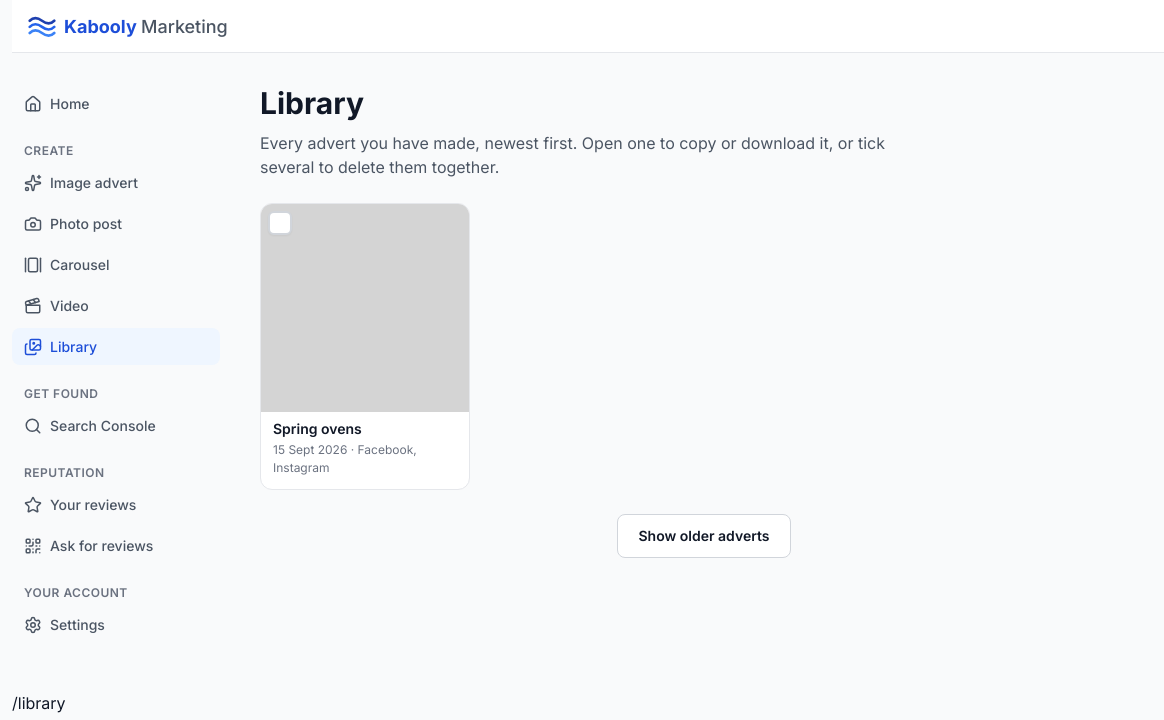
library › shows adverts as a compact grid, newest first, and loads older ones
The image size is (1164, 720).
Check: the text "Spring ovens" is shown, box [273,420,362,436]
Check: the text "15 Sept 2026 · Facebook, Instagram" is shown, box [273,442,417,475]
Click the button with test id "load-more" at (704, 536), box [618,514,790,558]
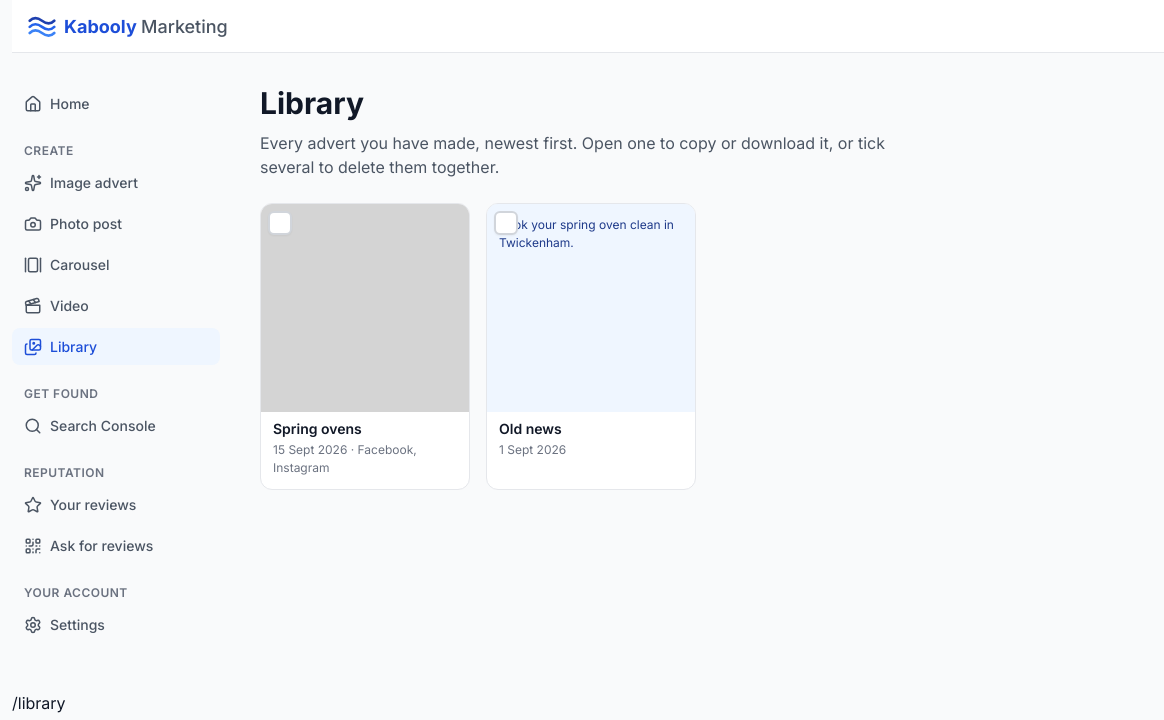
Check: the text "Old news" is shown, box [499,420,562,436]
Check: the text "Book your spring oven clean in Twickenham." is shown, box [487,204,695,412]
Check: the button with test id "load-more" is gone
